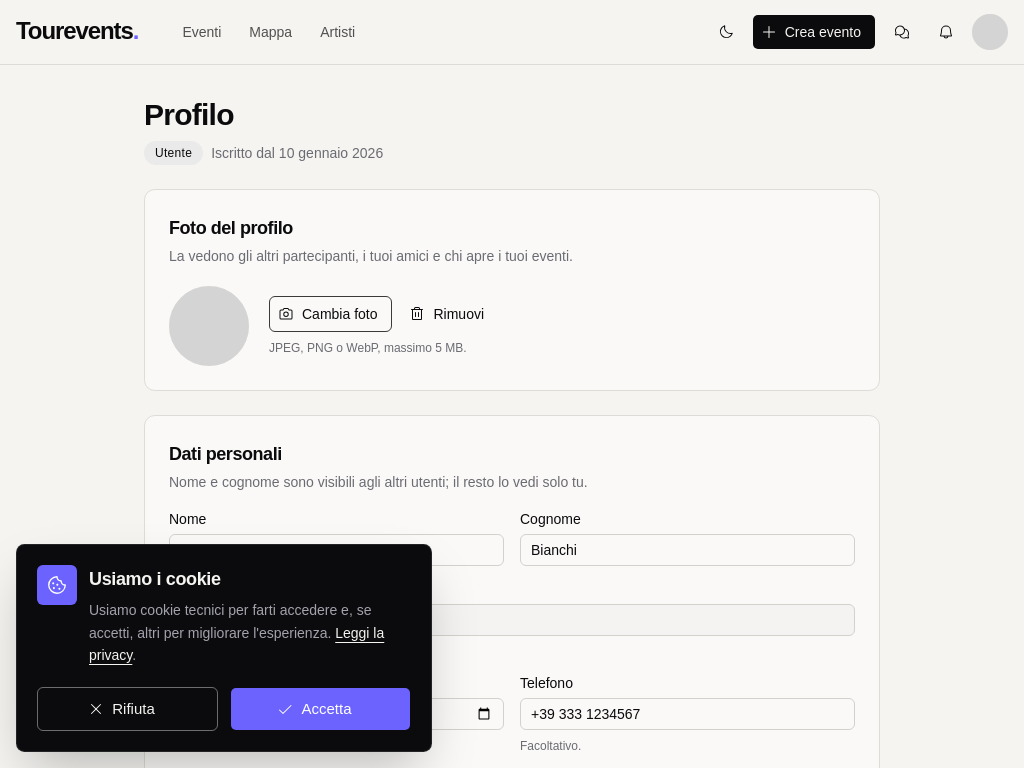
Test: ProfilePage: avatar › rimuove la foto dopo la conferma
The width and height of the screenshot is (1024, 768).
Click the button "Rimuovi". click: coordinates (450, 314)
box: [400,296,499,332]
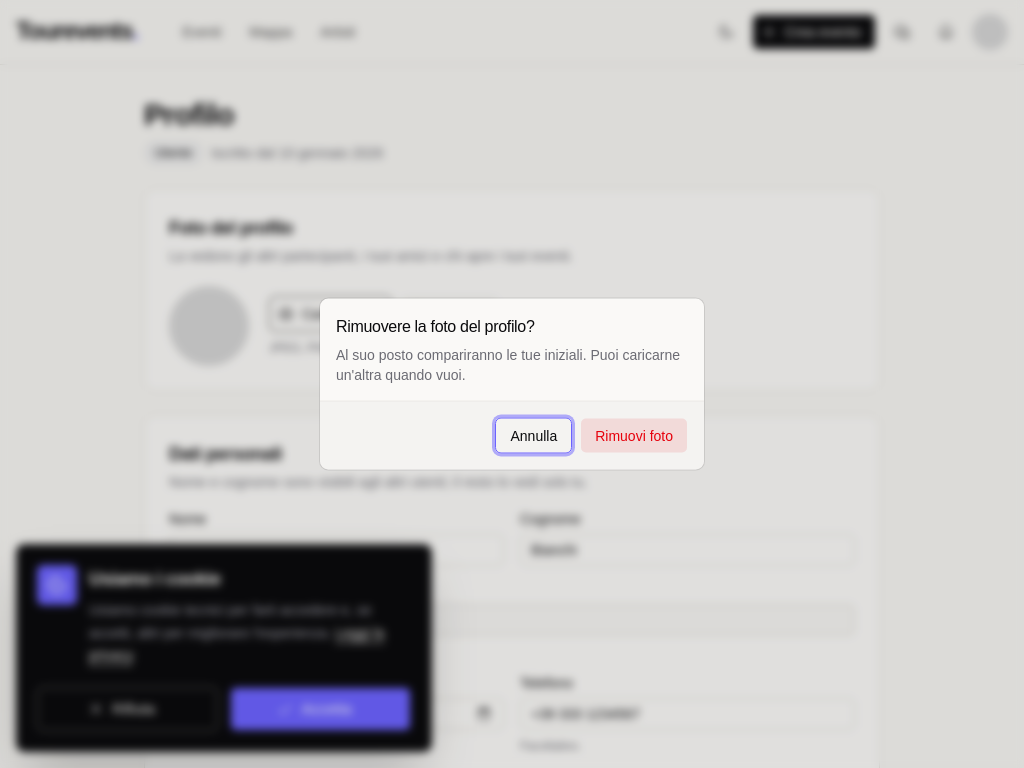
Click the button "Rimuovi foto". click: coordinates (634, 436)
box: [580,418,688,454]
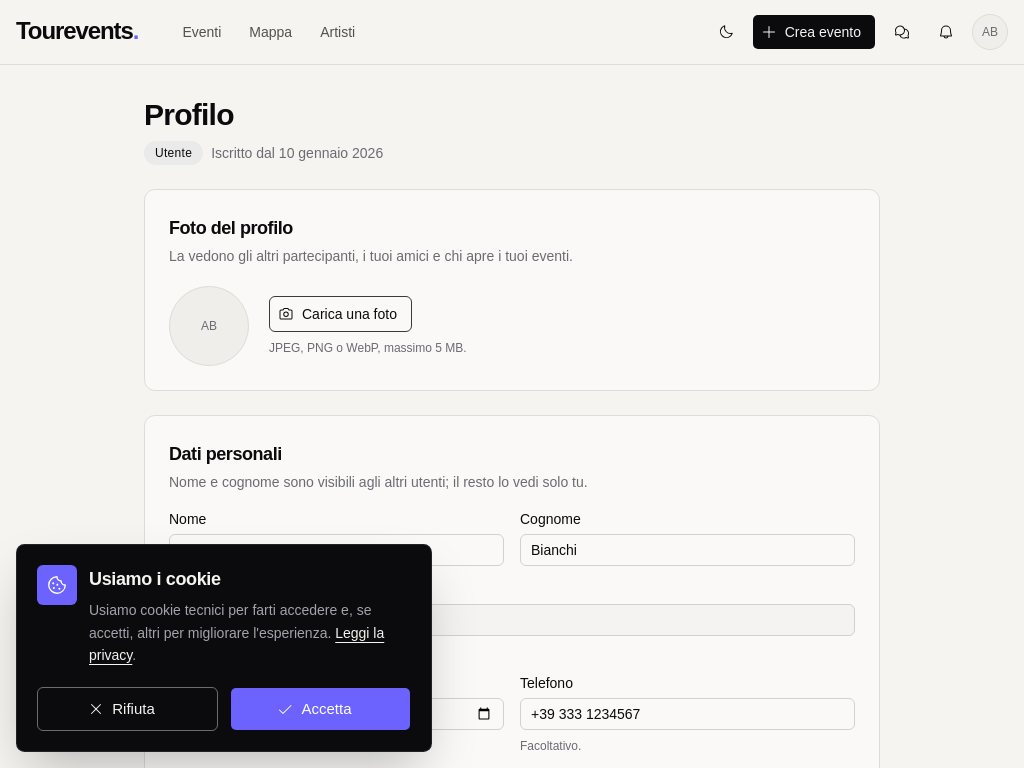
expect the button "Rimuovi" is gone: met
expect the button "Carica una foto" is shown: met, box [269,296,412,332]
